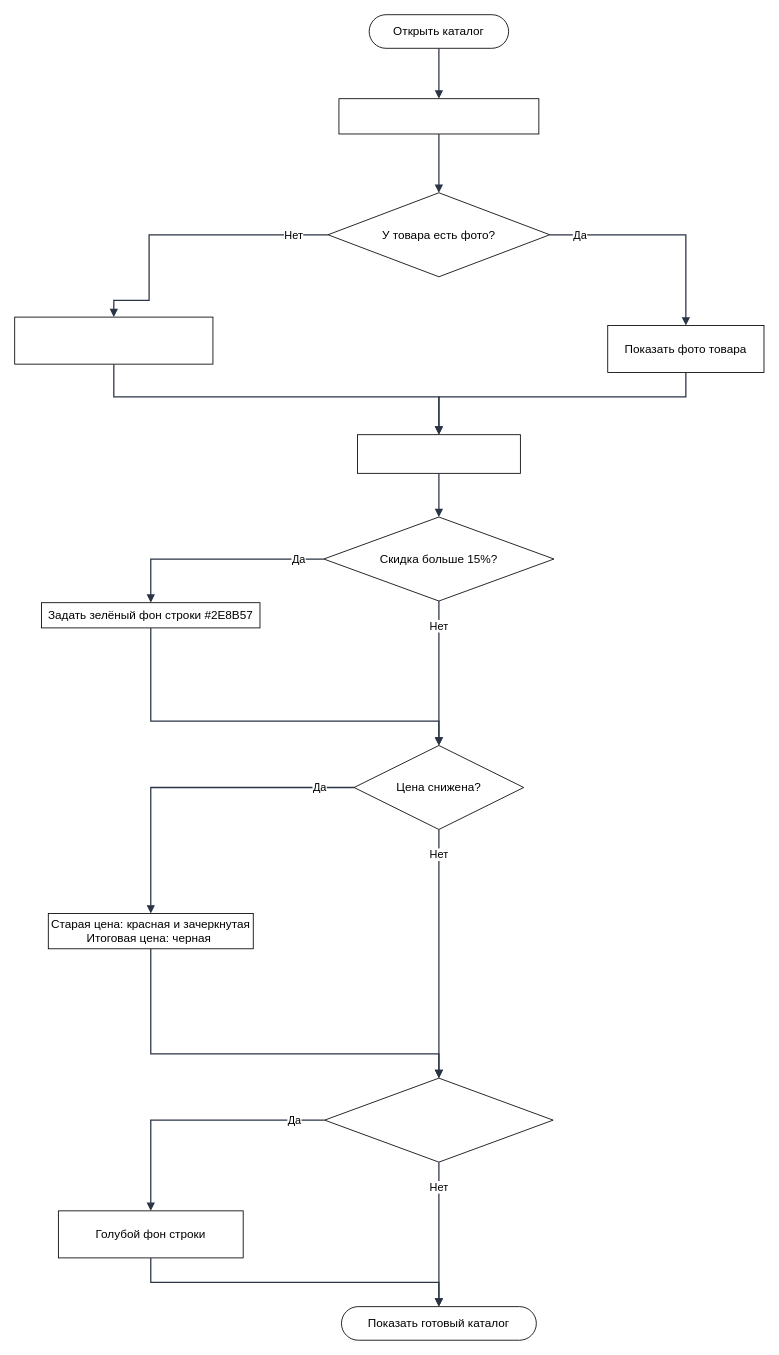
Image size: 779x1355. Some labels were removed from this diagram. Here are the shapes that lost their labels. From the top down, the box of each, then its label:
(338, 98, 539, 134): Получить список товаров из БД
(14, 316, 213, 364): Показать заглушку picture.png
(357, 434, 520, 473): Вывести данные товара
(324, 1077, 553, 1162): Остаток равен нулю?
